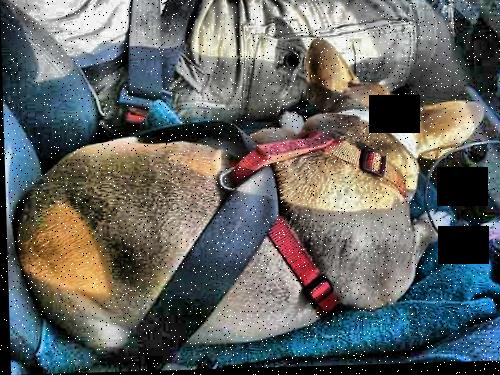seatbelt: (104, 6, 206, 135)
